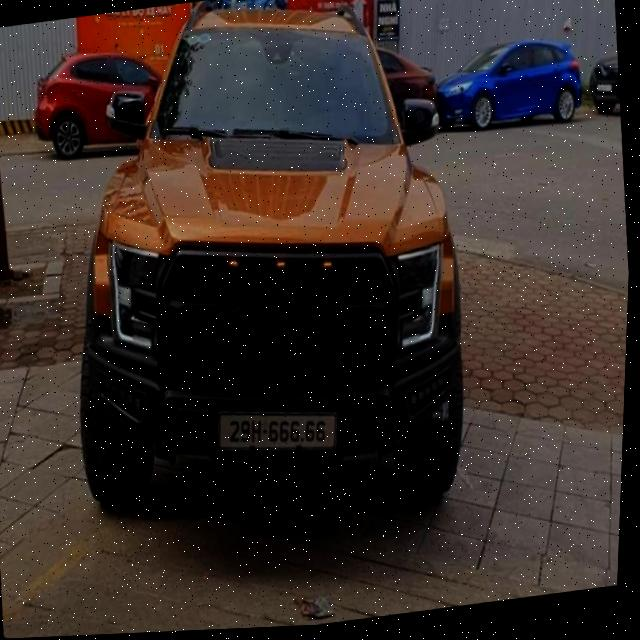car: (55, 0, 487, 538), (20, 0, 214, 172), (399, 0, 615, 150)
plate: (210, 398, 345, 467)
